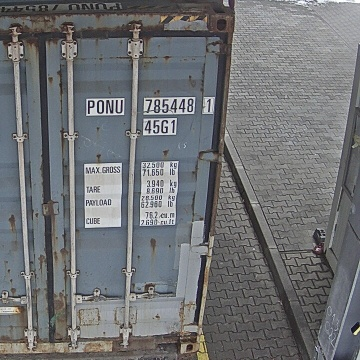serial_id: (88, 98, 212, 114)
